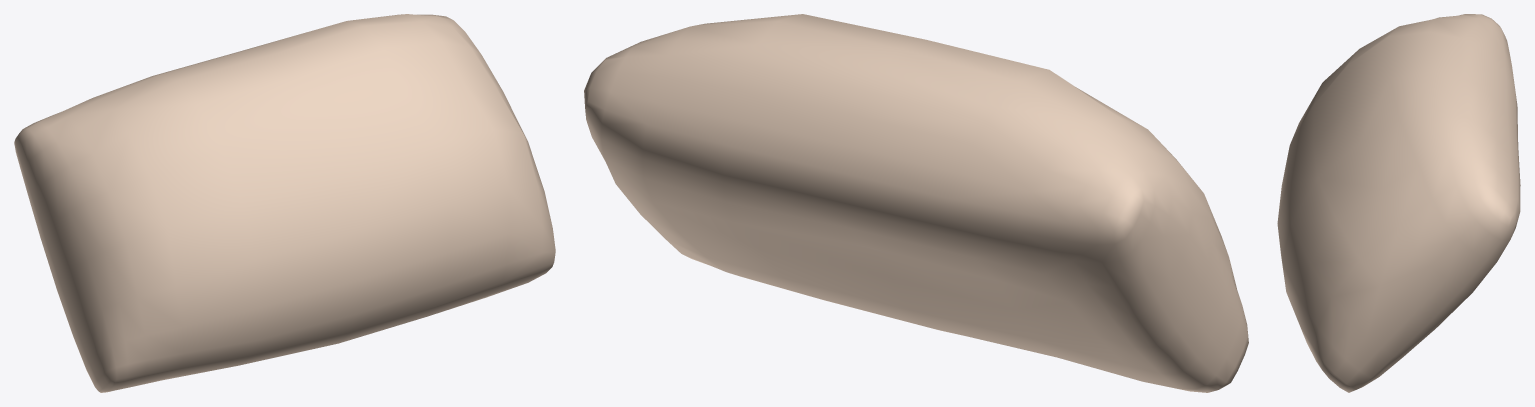
File: Pillow2.glb
3 views of the same model, side by side, from view 1: azimuth 30°, elevation 25°; view 2: azimuth 150°, elevation 25°; view 3: azimuth 270°, elevation 25° (orthographic). The views are drawn at different scales.
Parts seen in each view (by area): view 1: Pillow.002; view 2: Pillow.002; view 3: Pillow.002.
Boxes of the visible parts, left/top/right/bottom form: Pillow.002: left=14, top=14, right=555, bottom=392; Pillow.002: left=584, top=14, right=1248, bottom=392; Pillow.002: left=1277, top=14, right=1520, bottom=392.
Size of the model in its own units: 0.6902 by 0.371 by 0.3485.
